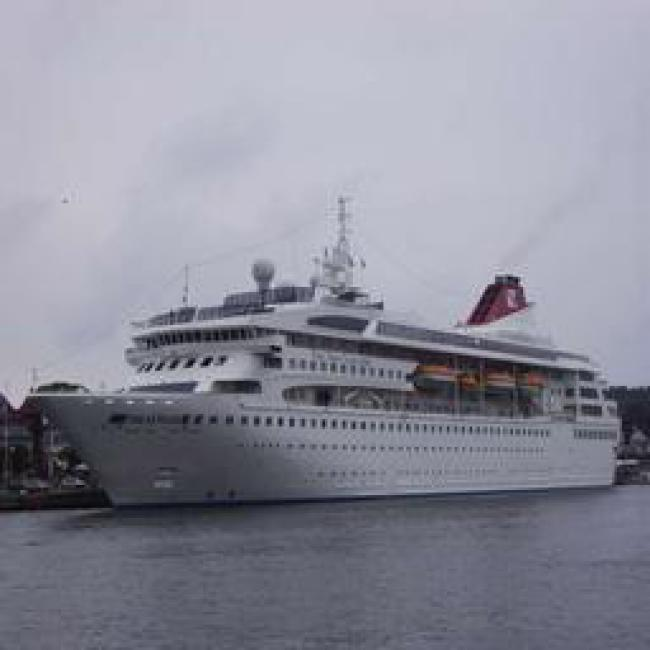Ship: (32, 262, 623, 492)
